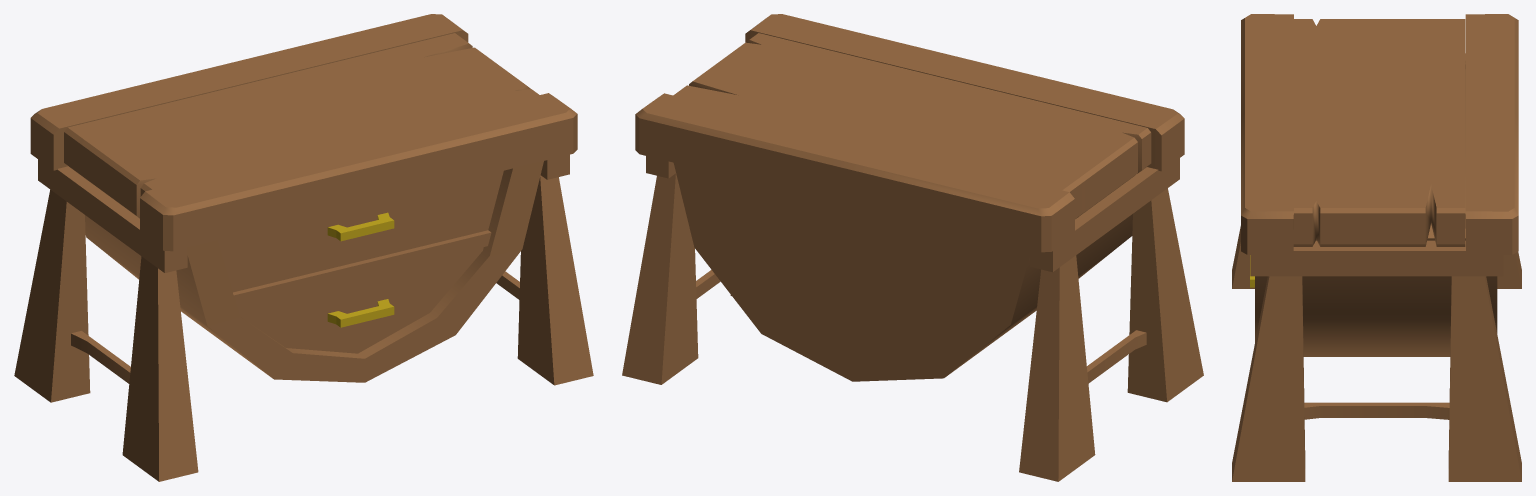
Rendered from NightstandVar2.fbx.
The picture shows the model from 3 angles, left to right: view 1: azimuth 30°, elevation 25°; view 2: azimuth 150°, elevation 25°; view 3: azimuth 270°, elevation 25°; orthographic projection.
Visible parts, largest first — view 1: NightstandVar2; view 2: NightstandVar2; view 3: NightstandVar2.
Boxes of the visible parts, <box> form: NightstandVar2: <box>14,14,593,481</box>; NightstandVar2: <box>622,14,1203,481</box>; NightstandVar2: <box>1232,14,1521,481</box>.
Size of the model in its own units: 119 by 68.8 by 68.5.
Materials: 2 (2 with a texture image).
